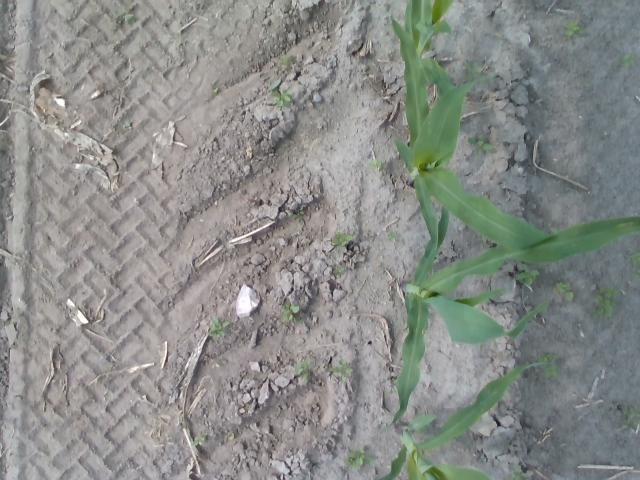Maize: (378, 206, 640, 434), (389, 16, 552, 254), (376, 362, 552, 480), (405, 0, 455, 98)
Weeds: (343, 445, 372, 469), (296, 358, 319, 384), (468, 136, 494, 154), (332, 360, 353, 382), (516, 264, 538, 284), (594, 296, 616, 316), (463, 60, 482, 79), (554, 282, 574, 300), (621, 406, 637, 427), (209, 318, 227, 336), (272, 90, 290, 106), (282, 305, 300, 321), (331, 234, 354, 246), (564, 21, 580, 36), (511, 464, 526, 480), (116, 11, 134, 24), (602, 285, 620, 298), (621, 53, 636, 67), (192, 435, 206, 447), (280, 55, 295, 66), (268, 78, 282, 89), (374, 160, 388, 170), (544, 366, 556, 376), (388, 230, 400, 240), (290, 210, 302, 219), (543, 354, 553, 364), (632, 252, 639, 264), (334, 267, 344, 275), (228, 432, 235, 440), (124, 121, 130, 128), (214, 88, 218, 92)
